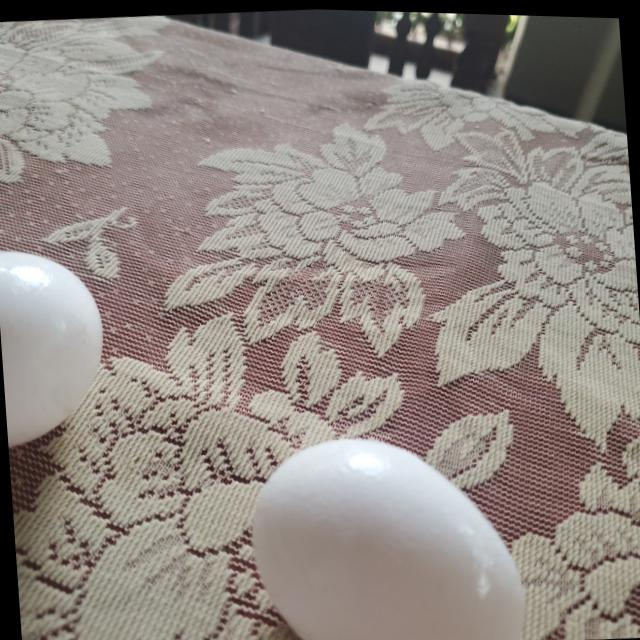egg: (248, 422, 540, 640), (0, 245, 107, 448)
